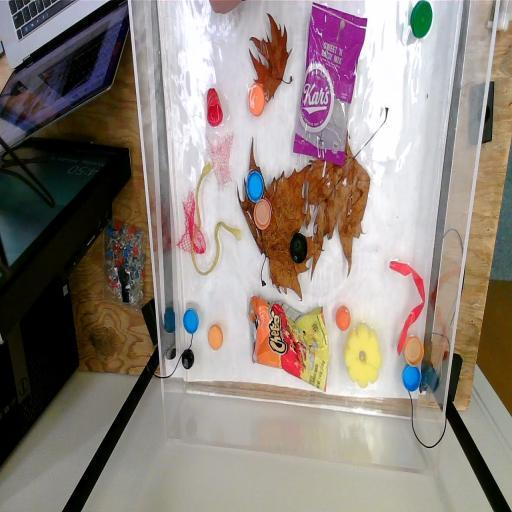Bottle Cap: (408, 2, 435, 40), (252, 198, 274, 233), (287, 231, 309, 265), (244, 168, 264, 204), (182, 303, 201, 337), (400, 364, 422, 393), (404, 336, 425, 366), (248, 84, 266, 118), (206, 320, 224, 354), (334, 303, 352, 334), (180, 348, 196, 372)
Cone Cap: (204, 80, 224, 132)
Leaf: (243, 140, 305, 302), (305, 154, 381, 279), (247, 12, 295, 96)
Netting: (176, 192, 208, 255), (206, 133, 236, 191)
Plastic Bag: (296, 3, 366, 163), (244, 291, 332, 396)
Plastic Strand: (189, 160, 242, 276), (387, 258, 426, 354)
Sponge: (344, 324, 382, 390)
